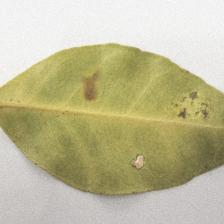canker: (58, 61, 212, 175)
